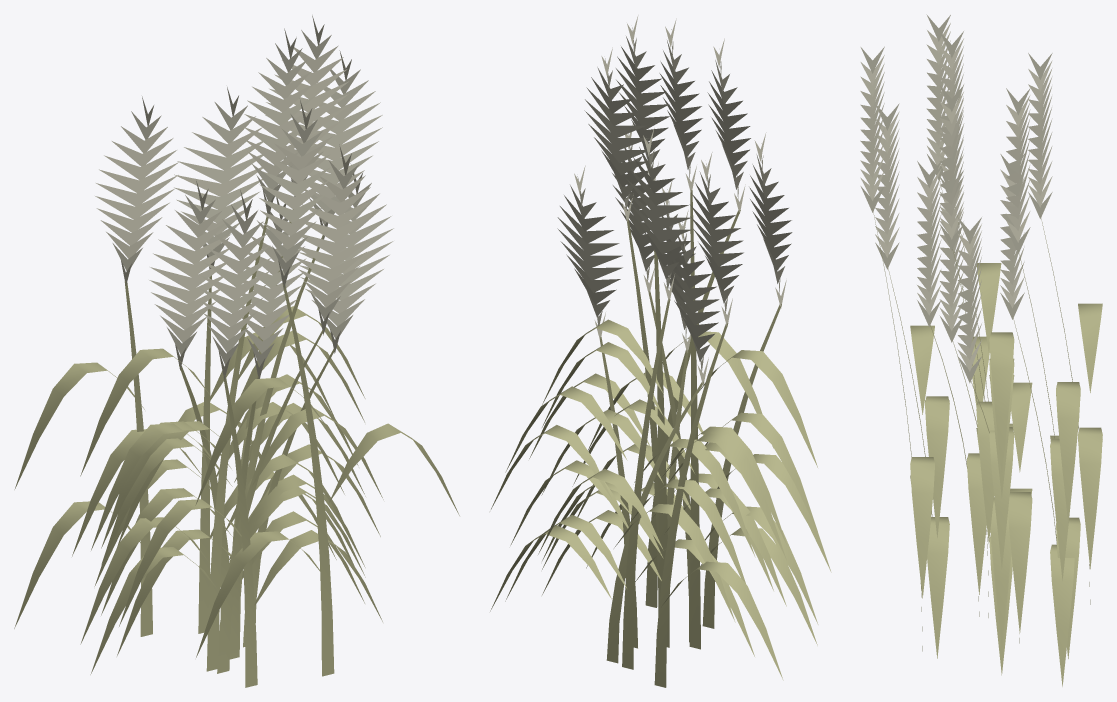
The model's file is jeju_silver_grass.glb.
3 views of the same model, side by side, from view 1: azimuth 30°, elevation 25°; view 2: azimuth 150°, elevation 25°; view 3: azimuth 270°, elevation 25° (orthographic). The views are drawn at different scales.
Size of the model in its own units: 0.8155 by 1.39 by 0.4852.
